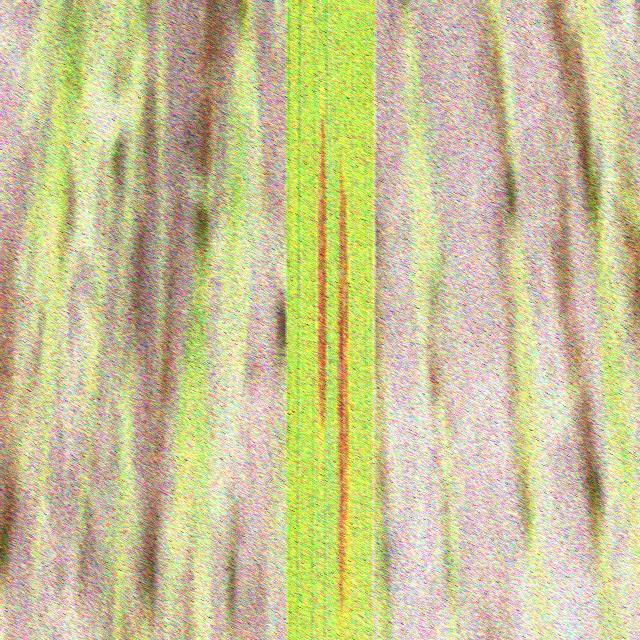NBS: (338, 168, 349, 618), (317, 115, 326, 432)
